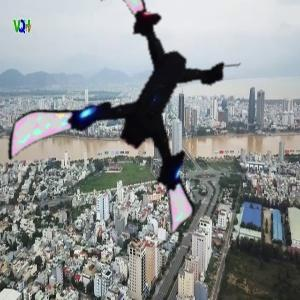drone: (29, 11, 255, 237)
